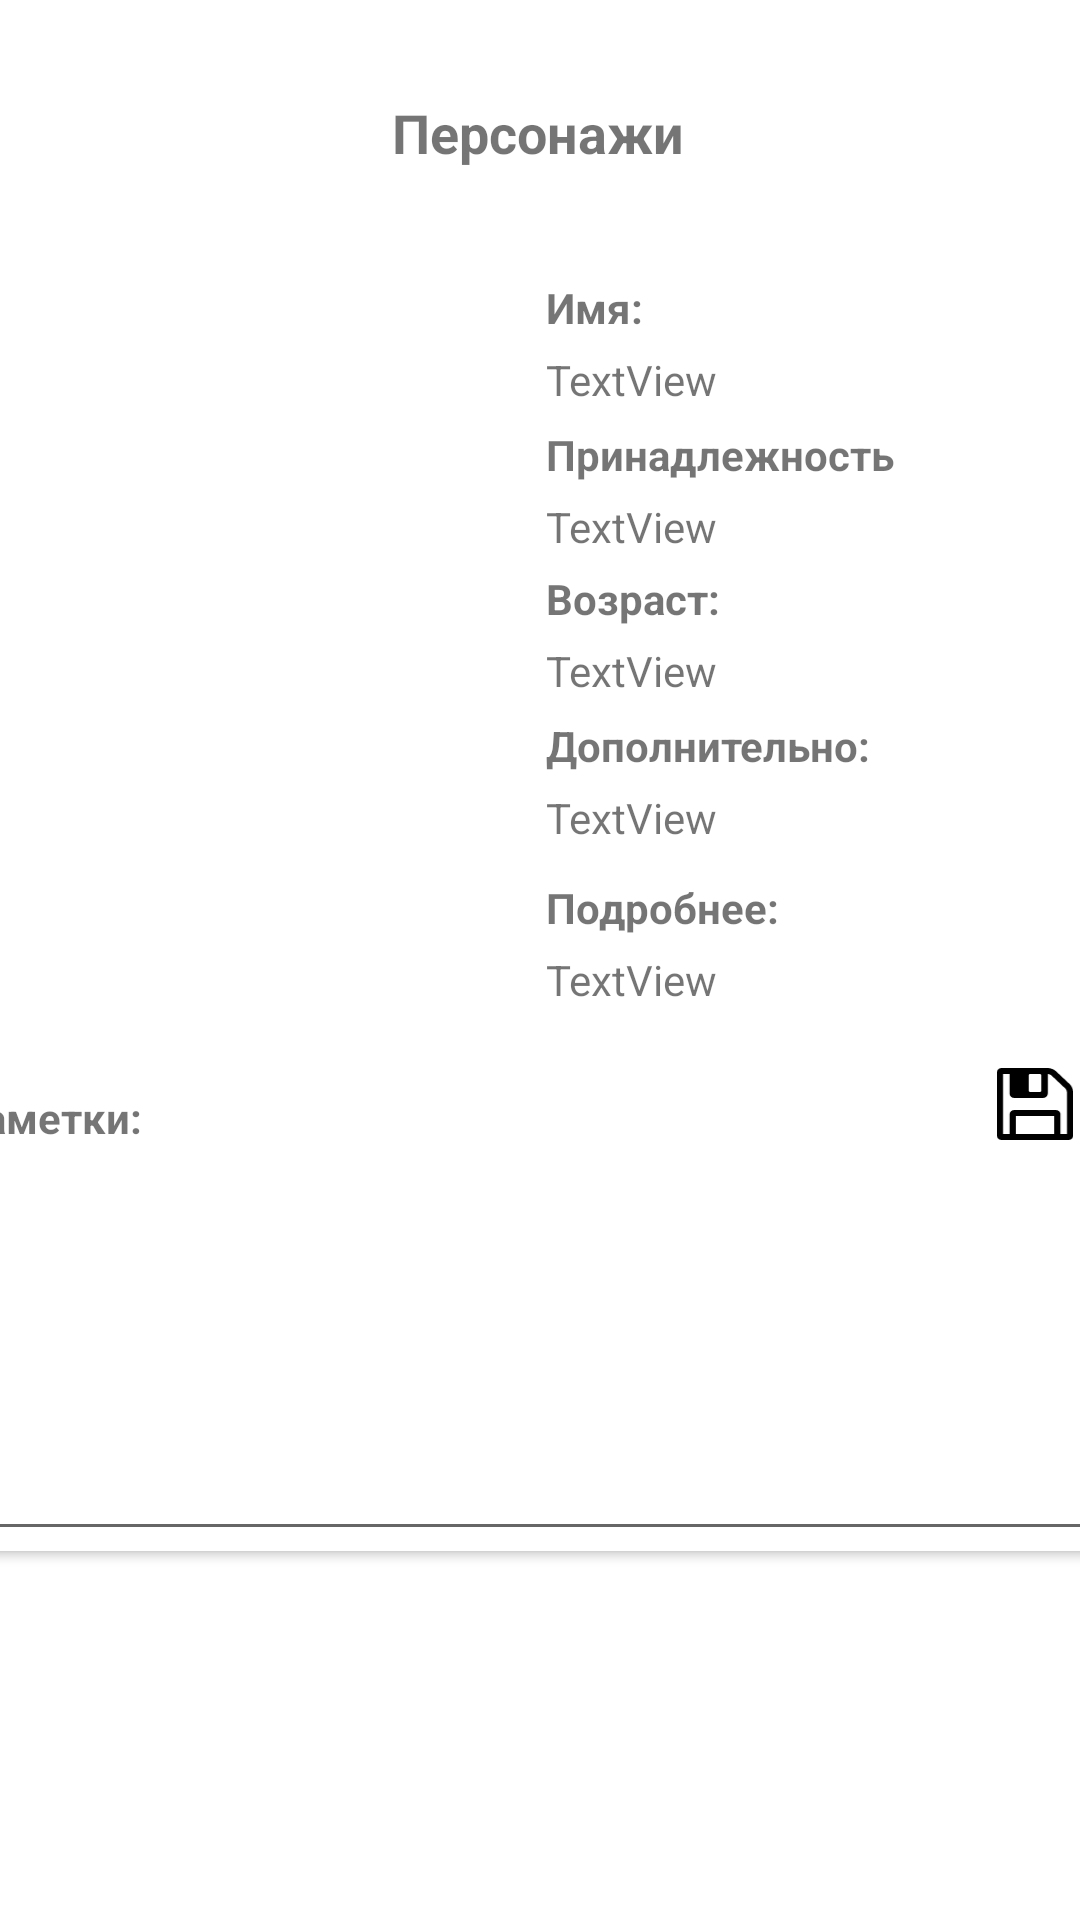

Locate icon controls on the screen. Image size 1080x1920, boxes as (x1, y1, x2, y2).
save: (997, 1068, 1073, 1140)
